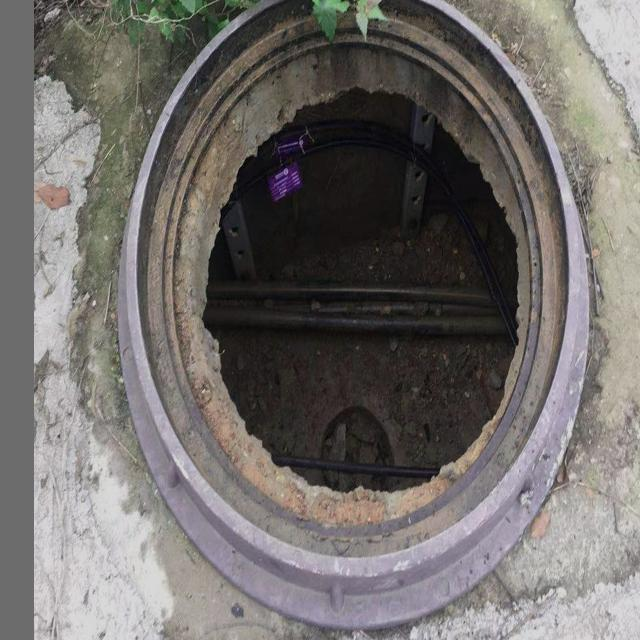lose: (112, 0, 584, 618)
